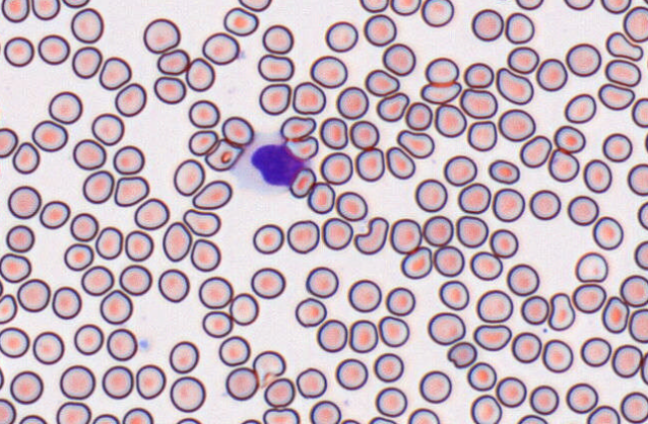MONO: (229, 128, 303, 195)
RBC: (142, 17, 180, 53), (169, 375, 205, 412), (427, 311, 465, 345), (59, 364, 95, 399), (476, 289, 513, 323), (202, 31, 239, 65), (497, 108, 535, 141), (309, 55, 347, 88), (565, 42, 601, 76), (31, 119, 68, 152), (162, 221, 192, 261), (192, 179, 232, 209), (99, 289, 133, 324), (70, 7, 103, 43), (389, 218, 422, 254), (173, 158, 204, 196), (459, 87, 497, 118), (7, 185, 41, 219), (16, 278, 50, 312), (347, 278, 381, 312), (48, 90, 82, 124), (381, 42, 415, 76), (134, 197, 169, 230), (492, 187, 525, 222), (225, 366, 258, 400), (10, 370, 43, 404), (319, 151, 353, 184), (98, 56, 131, 90), (519, 134, 552, 168), (286, 219, 319, 253), (414, 178, 447, 212), (335, 86, 369, 119), (198, 276, 233, 308), (250, 267, 285, 299), (541, 338, 573, 373), (396, 129, 434, 158), (455, 215, 488, 248), (363, 13, 396, 46), (506, 263, 539, 296), (418, 370, 451, 403), (91, 112, 124, 145), (292, 81, 325, 114), (101, 365, 133, 399), (157, 268, 189, 302), (82, 169, 114, 203), (72, 138, 106, 170), (114, 82, 146, 116), (535, 57, 567, 91), (547, 148, 579, 182), (434, 103, 466, 137), (324, 20, 358, 52), (457, 182, 491, 214), (443, 154, 477, 186), (114, 175, 149, 206), (135, 364, 166, 399), (592, 215, 623, 250), (604, 58, 641, 87), (601, 295, 629, 333), (305, 266, 338, 298), (335, 358, 368, 390), (400, 246, 432, 279), (321, 217, 353, 250), (32, 331, 64, 364), (37, 33, 70, 65), (471, 8, 503, 41), (258, 83, 291, 115), (611, 344, 642, 378), (118, 264, 152, 295), (574, 251, 608, 282), (316, 318, 347, 352), (223, 6, 258, 36), (183, 208, 220, 236), (257, 53, 294, 81), (106, 328, 137, 361), (71, 45, 102, 78), (168, 340, 199, 373), (190, 238, 221, 271), (565, 382, 598, 413), (376, 91, 409, 122), (221, 115, 254, 146), (80, 265, 114, 295), (572, 283, 606, 313), (185, 57, 215, 91), (348, 319, 378, 353), (424, 56, 459, 85), (583, 158, 612, 193), (598, 82, 634, 110), (218, 335, 250, 366), (378, 315, 409, 347), (335, 190, 367, 221), (295, 367, 327, 398), (433, 245, 464, 277), (375, 386, 407, 417), (252, 223, 284, 254), (529, 189, 561, 220), (51, 286, 81, 319), (563, 93, 596, 123), (385, 146, 415, 179), (469, 250, 502, 280), (355, 147, 384, 181), (364, 68, 399, 96), (279, 115, 316, 141), (0, 252, 31, 283), (495, 376, 526, 407), (580, 336, 611, 367), (466, 120, 497, 151), (3, 36, 34, 67), (422, 215, 453, 246), (567, 195, 599, 225), (73, 323, 103, 355), (294, 297, 326, 327), (263, 377, 295, 407), (511, 331, 541, 363), (504, 12, 534, 44), (112, 144, 144, 174), (94, 226, 123, 259), (229, 292, 258, 325), (153, 75, 186, 104), (319, 116, 348, 149), (438, 280, 469, 310), (529, 384, 559, 415), (262, 24, 293, 54), (124, 229, 153, 261), (0, 326, 29, 358), (470, 394, 502, 423), (188, 99, 220, 128), (553, 124, 585, 153), (622, 5, 647, 42), (307, 181, 335, 214), (12, 141, 40, 174), (619, 274, 647, 307), (506, 46, 539, 74), (466, 361, 496, 391), (373, 352, 403, 382), (349, 119, 379, 149), (385, 286, 415, 316), (602, 132, 632, 162), (520, 294, 549, 325), (39, 200, 70, 229), (288, 166, 316, 198), (421, 0, 454, 27), (156, 48, 189, 75), (63, 242, 93, 271), (489, 228, 518, 258), (201, 310, 233, 337), (620, 391, 647, 423), (69, 212, 98, 241), (188, 129, 219, 156), (285, 135, 318, 160), (5, 224, 34, 252), (404, 101, 432, 130), (463, 62, 494, 88), (488, 159, 519, 184), (56, 401, 91, 423), (309, 399, 341, 423), (628, 308, 647, 343), (586, 404, 620, 423), (627, 163, 647, 195), (1, 0, 29, 22), (262, 407, 299, 423), (31, 0, 60, 20), (0, 127, 18, 158), (0, 293, 17, 324), (407, 407, 439, 423), (122, 407, 153, 423), (631, 97, 647, 127), (390, 0, 420, 15), (600, 0, 631, 14), (633, 240, 647, 270), (0, 397, 16, 423), (238, 0, 271, 11), (359, 0, 388, 12), (563, 0, 594, 10), (637, 200, 647, 229), (640, 350, 648, 385), (91, 413, 119, 423), (515, 0, 543, 10), (516, 414, 547, 423), (18, 414, 47, 423), (62, 0, 90, 8), (368, 416, 396, 423), (175, 417, 202, 423), (643, 130, 648, 154), (240, 418, 262, 423), (339, 418, 360, 423), (0, 366, 4, 390), (0, 278, 4, 297), (492, 0, 511, 3)
Schistocyte: (496, 67, 536, 108), (603, 31, 645, 65), (354, 217, 390, 255), (203, 139, 243, 173), (252, 350, 287, 387), (472, 323, 512, 354), (550, 291, 577, 332), (447, 341, 480, 370)
